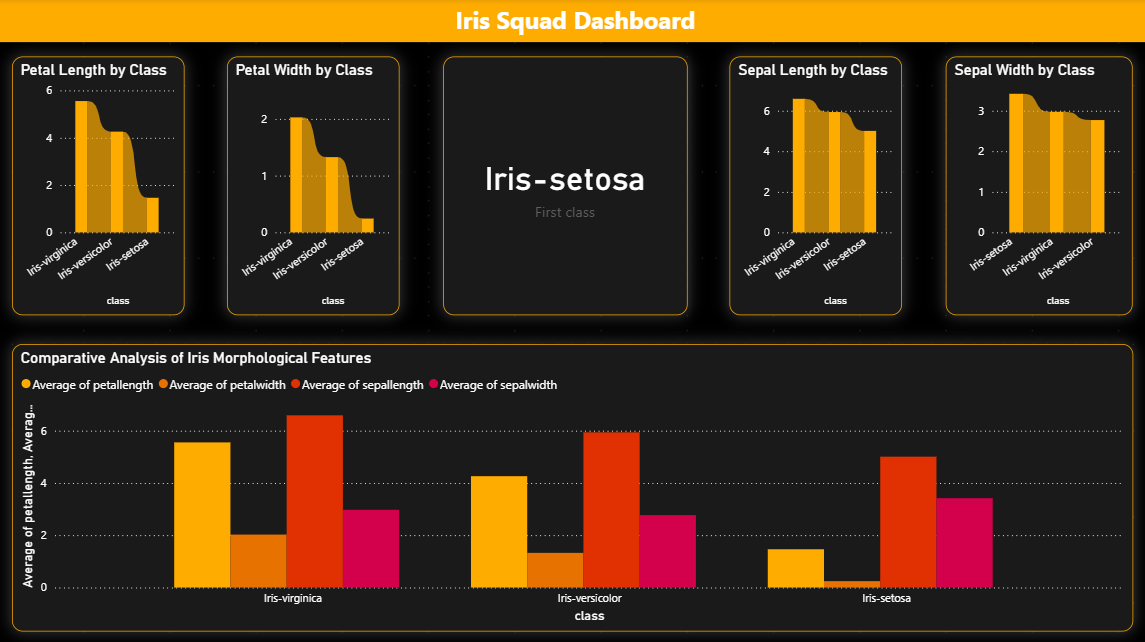

This screenshot's page, from the dashboard's own definition file:
{"tool":"powerbi","page":{"name":"Page 1","canvas":[1280,720],"ordinal":0},"visuals":[{"type":"ribbonChart","title":"Petal Width by Class","fields":{"Category":["Sheet1.class"],"Y":["Avg(Sheet1.petalwidth)"]},"box":[256,64,192,288],"z":0},{"type":"ribbonChart","title":"Petal Length by Class","fields":{"Category":["Sheet1.class"],"Y":["Avg(Sheet1.petallength)"]},"box":[16,64,192,288],"z":1000},{"type":"clusteredColumnChart","title":"Comparative Analysis of Iris Morphological Features","fields":{"Category":["Sheet1.class"],"Y":["Avg(Sheet1.petallength)","Avg(Sheet1.petalwidth)","Avg(Sheet1.sepallength)","Avg(Sheet1.sepalwidth)"]},"box":[16,384,1248,320],"z":2000},{"type":"ribbonChart","title":"Sepal Length by Class","fields":{"Category":["Sheet1.class"],"Y":["Avg(Sheet1.sepallength)"]},"box":[816,64,192,288],"z":3000},{"type":"ribbonChart","title":"Sepal Width by Class","fields":{"Category":["Sheet1.class"],"Y":["Avg(Sheet1.sepalwidth)"]},"box":[1056,64,208,288],"z":4000},{"type":"card","fields":{"Values":["Min(Sheet1.class)"]},"box":[496,64,272,288],"z":5000},{"type":"textbox","box":[0,0,1280,48],"z":6000}]}

Visuals, with their boxes in screenshot pixels (x1, y1, x2, y2), scaled from the page's 1280x720 canvas onto the 1145x642 screenshot:
"Petal Width by Class" ribbonChart: box=[229, 57, 401, 314]
"Petal Length by Class" ribbonChart: box=[14, 57, 186, 314]
"Comparative Analysis of Iris Morphological Features" clusteredColumnChart: box=[14, 342, 1131, 628]
"Sepal Length by Class" ribbonChart: box=[730, 57, 902, 314]
"Sepal Width by Class" ribbonChart: box=[945, 57, 1131, 314]
card - Min(Sheet1.class): box=[444, 57, 687, 314]
textbox: box=[0, 0, 1144, 43]
